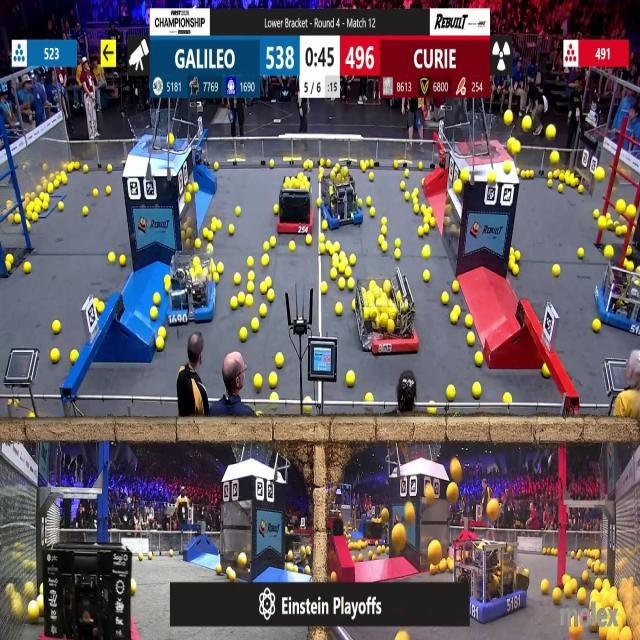ball_airborne: (448, 462, 460, 484), (392, 526, 404, 544), (488, 500, 499, 519), (406, 504, 416, 524), (448, 483, 459, 501), (424, 486, 434, 500), (545, 126, 554, 141), (523, 116, 532, 129), (514, 140, 522, 154), (551, 151, 560, 163), (453, 180, 462, 192), (627, 205, 636, 217), (504, 111, 512, 124), (506, 139, 514, 152), (503, 162, 511, 174), (489, 170, 496, 183), (626, 261, 634, 272), (461, 170, 468, 182), (169, 135, 174, 146)
ball_ground: (447, 385, 456, 400), (347, 372, 356, 387), (554, 589, 563, 604), (471, 383, 480, 397), (270, 374, 278, 389), (254, 375, 262, 390), (474, 352, 482, 366), (50, 349, 58, 363), (251, 318, 259, 332), (577, 590, 585, 604), (54, 320, 62, 334), (276, 353, 284, 367), (540, 581, 548, 595), (239, 554, 247, 568), (70, 350, 78, 363), (238, 292, 246, 305), (596, 169, 604, 182), (241, 327, 248, 341), (553, 266, 561, 278), (593, 320, 601, 332), (268, 289, 276, 301), (422, 246, 430, 258), (451, 313, 459, 325), (245, 294, 253, 306), (155, 339, 163, 351), (604, 246, 612, 258), (226, 568, 234, 580), (467, 334, 474, 347), (541, 364, 548, 377), (259, 305, 266, 318), (464, 316, 472, 327), (502, 392, 510, 403), (598, 217, 606, 228), (339, 252, 347, 263), (564, 588, 572, 599), (444, 292, 451, 304), (513, 265, 520, 277), (232, 296, 239, 308), (562, 574, 570, 584), (340, 264, 348, 274), (337, 304, 343, 317), (132, 582, 138, 595), (348, 279, 355, 290), (235, 274, 242, 285), (329, 269, 336, 280), (247, 256, 254, 267), (339, 279, 346, 290), (349, 254, 356, 265), (247, 282, 254, 293), (108, 252, 115, 263), (98, 303, 105, 314), (259, 283, 266, 294), (331, 255, 338, 266), (395, 633, 406, 640), (150, 308, 156, 320), (394, 248, 400, 260), (264, 254, 270, 266), (153, 293, 159, 305), (321, 282, 327, 294), (453, 281, 459, 293), (600, 628, 606, 640), (448, 560, 454, 572), (193, 239, 200, 249), (160, 328, 167, 338), (267, 278, 274, 288), (42, 201, 49, 211), (203, 230, 210, 240), (617, 226, 624, 236), (213, 274, 220, 284), (454, 306, 461, 316), (25, 264, 31, 275), (119, 254, 125, 265), (289, 241, 295, 252), (227, 223, 233, 234), (320, 243, 326, 254), (516, 250, 522, 261), (328, 243, 334, 254), (365, 392, 372, 401), (271, 391, 278, 400), (428, 408, 435, 417), (578, 248, 584, 258), (217, 265, 223, 275), (248, 272, 254, 282), (59, 202, 65, 212), (330, 571, 336, 581), (307, 236, 313, 246), (322, 220, 328, 230), (365, 198, 371, 208), (403, 190, 409, 200), (270, 238, 276, 248), (265, 242, 271, 252), (335, 242, 341, 252), (185, 192, 191, 202), (346, 268, 352, 278), (414, 205, 420, 215), (382, 242, 388, 252), (5, 264, 11, 274), (6, 254, 12, 264), (596, 578, 602, 588), (47, 183, 53, 193), (570, 577, 576, 587), (364, 309, 369, 321), (165, 275, 171, 285), (430, 564, 436, 574), (422, 206, 429, 214), (507, 264, 514, 272), (394, 239, 400, 248), (82, 207, 88, 216), (106, 185, 112, 194), (577, 184, 583, 193), (274, 205, 280, 214), (32, 213, 38, 222), (418, 226, 424, 235), (429, 218, 435, 227), (62, 176, 68, 185), (382, 225, 388, 234), (627, 247, 633, 256), (424, 272, 429, 282), (216, 220, 221, 230), (211, 221, 216, 231), (584, 571, 589, 581), (594, 210, 600, 218), (82, 164, 88, 172), (379, 237, 385, 245), (548, 182, 554, 190), (423, 216, 429, 224), (290, 564, 296, 572), (304, 408, 310, 416), (316, 175, 322, 183), (559, 174, 565, 182), (413, 198, 419, 206), (55, 180, 61, 188), (369, 208, 374, 217), (237, 207, 242, 216), (216, 565, 221, 574), (399, 181, 404, 190), (306, 566, 311, 575), (320, 235, 325, 244), (424, 224, 429, 233), (14, 214, 19, 223), (360, 163, 365, 172), (68, 163, 73, 172), (94, 188, 100, 195), (382, 217, 388, 224), (316, 200, 322, 207), (270, 162, 276, 169), (414, 188, 420, 195), (29, 414, 35, 421), (403, 170, 408, 178), (559, 184, 564, 192), (139, 554, 144, 562), (529, 170, 534, 178), (306, 160, 311, 168), (588, 560, 593, 568), (208, 244, 213, 252), (606, 212, 611, 220), (547, 172, 552, 180), (368, 173, 372, 182), (192, 183, 196, 192), (28, 221, 32, 230), (358, 555, 363, 562), (521, 171, 526, 178), (352, 303, 356, 311), (419, 163, 423, 171), (214, 162, 218, 170), (394, 162, 398, 170), (320, 160, 324, 168), (40, 191, 44, 199), (108, 166, 112, 173), (170, 551, 174, 558), (148, 554, 152, 560), (352, 556, 356, 562), (256, 412, 260, 418), (8, 399, 12, 405)
goal: (460, 117, 513, 159), (129, 116, 188, 151)
robot_blue: (466, 544, 530, 622), (165, 251, 214, 325), (600, 259, 640, 335), (321, 166, 362, 228), (283, 528, 310, 570)
robot_red: (40, 551, 136, 640), (358, 281, 421, 356), (278, 176, 313, 235), (361, 508, 391, 546), (445, 0, 489, 6)
